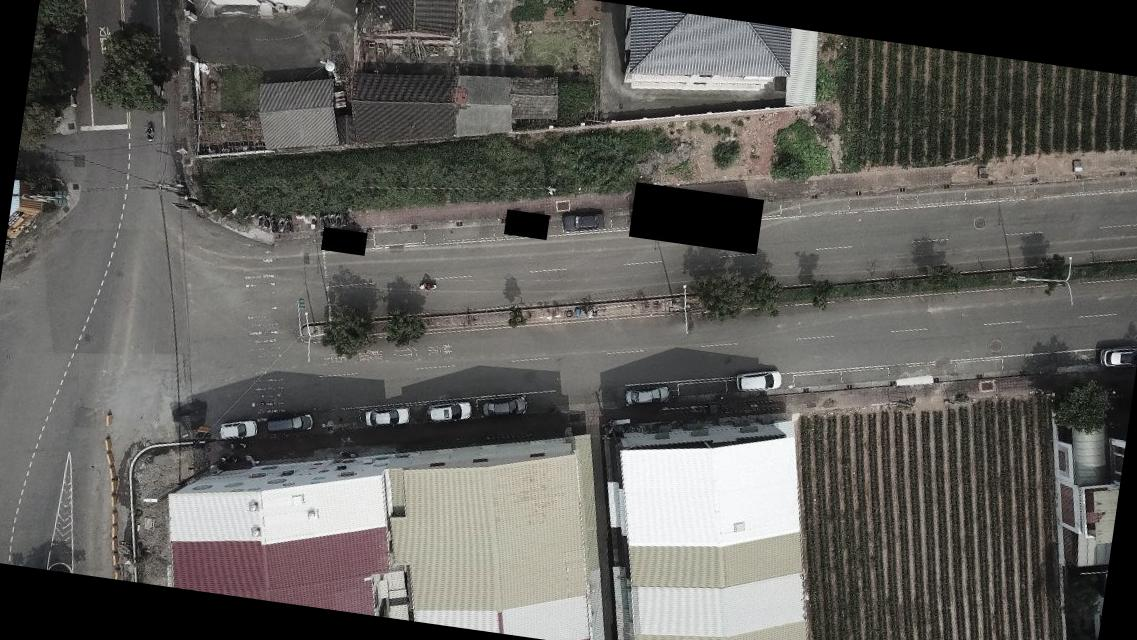vehicle: (731, 364, 782, 396), (478, 392, 528, 424), (262, 408, 314, 438), (362, 402, 410, 434), (624, 379, 670, 412), (426, 398, 473, 430), (560, 207, 606, 237), (215, 414, 257, 444), (1095, 343, 1136, 373)
